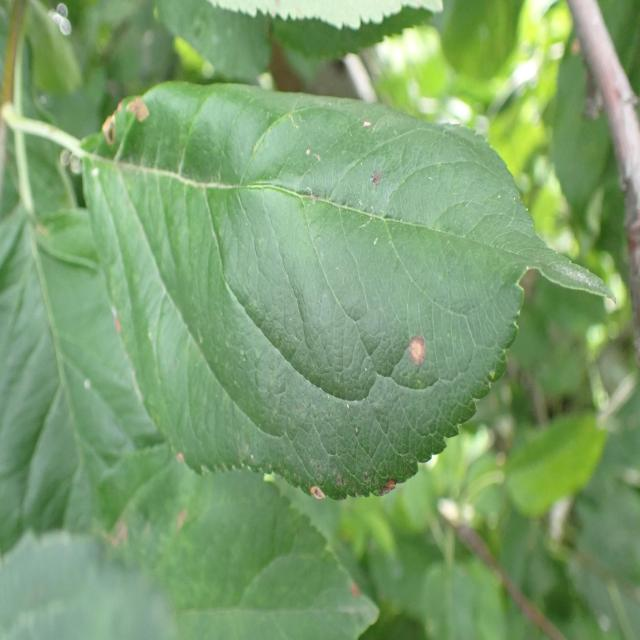frog-eye-leaf-spot: (80, 79, 617, 500)
